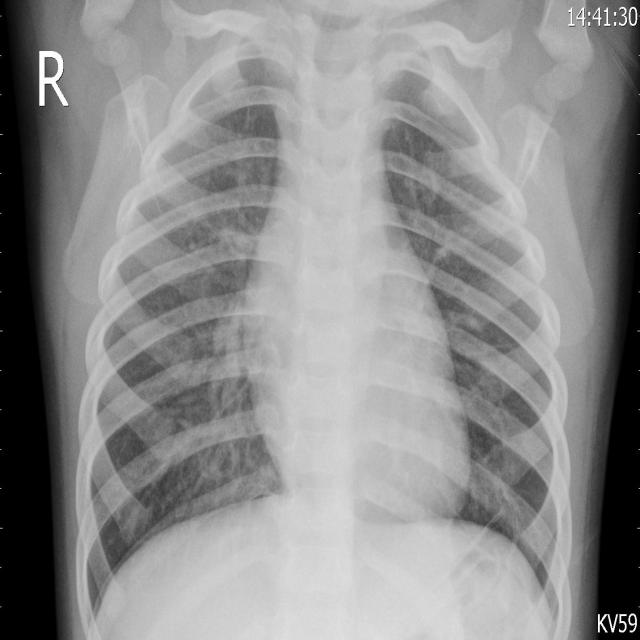no-pneumonia: (78, 47, 282, 628), (384, 70, 571, 612)
